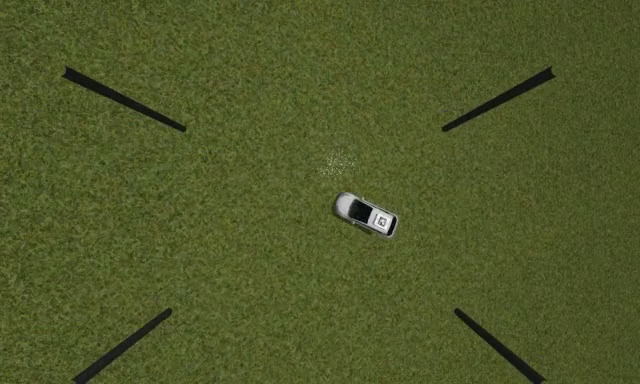Car: (334, 193, 398, 238)
Landing Pad: (374, 214, 391, 229)
